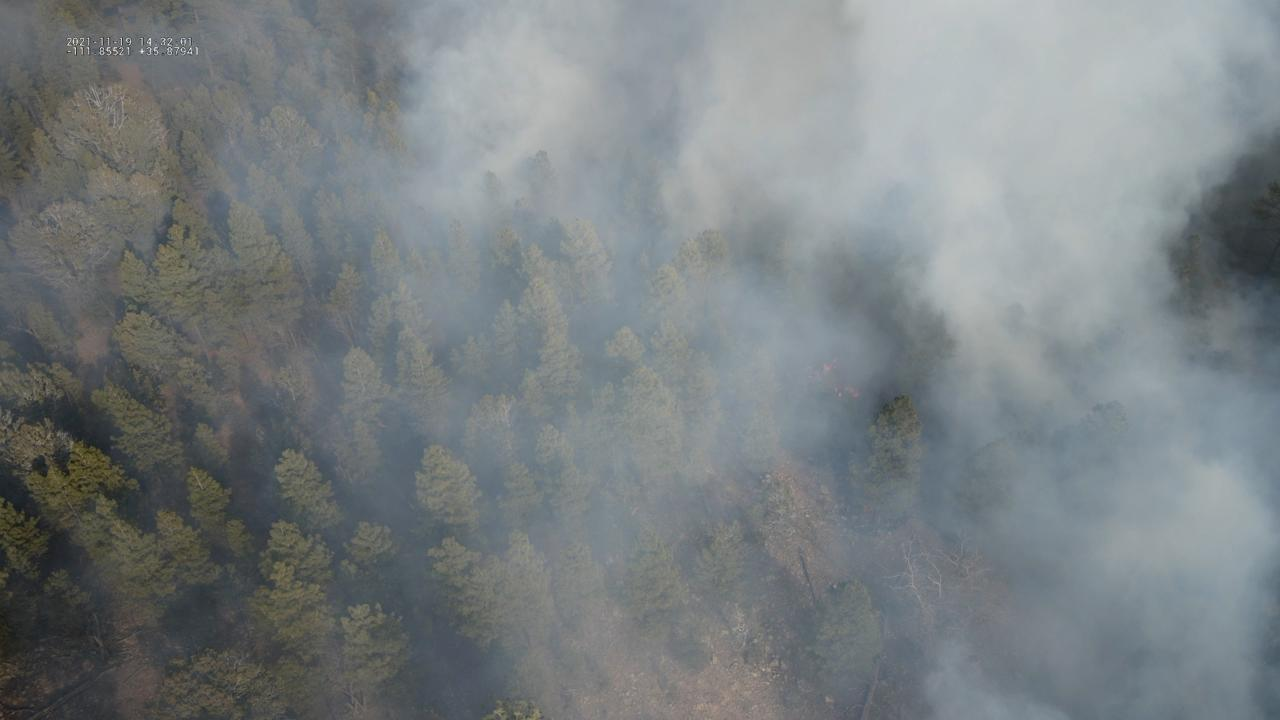fire: (846, 386, 860, 398), (822, 363, 833, 375)
smoke: (0, 0, 1280, 720)
